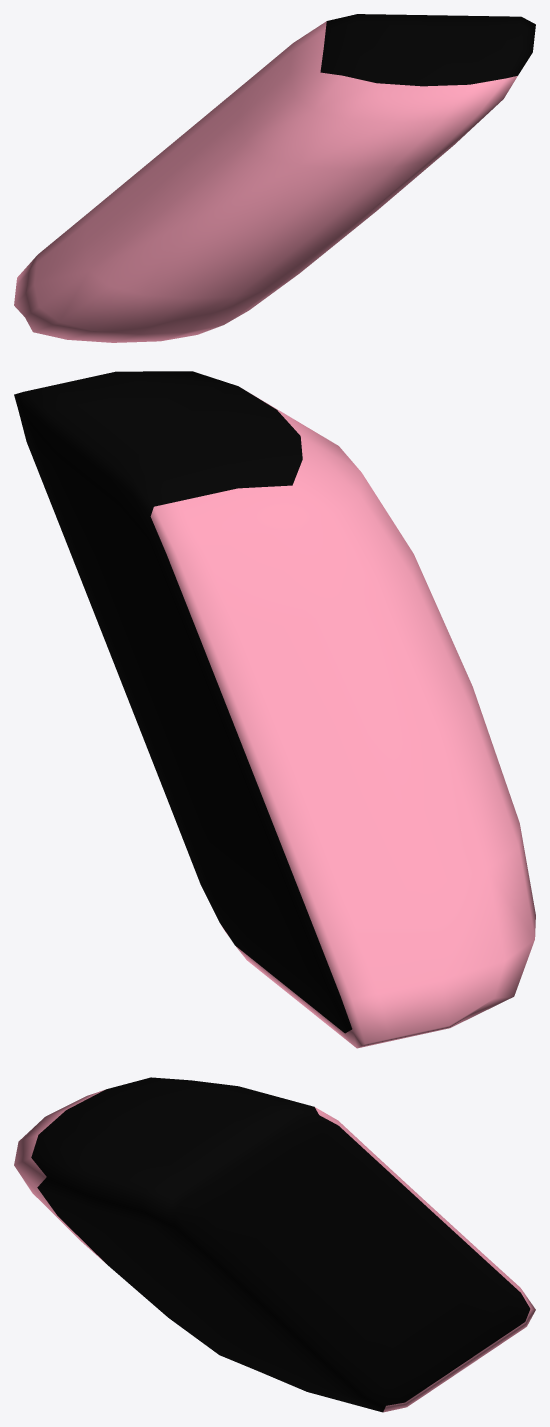
3 renders of one model, top to bottom at view 1: azimuth 30°, elevation 25°; view 2: azimuth 150°, elevation 25°; view 3: azimuth 270°, elevation 25°, orthographic. The views are drawn at different scales.
Visible parts, largest first — view 1: Box1247; view 2: Box1247; view 3: Box1247.
Boxes of the visible parts, left/top/right/bottom form: Box1247: left=14, top=14, right=535, bottom=342; Box1247: left=14, top=371, right=535, bottom=1048; Box1247: left=14, top=1077, right=535, bottom=1412.
Bounding box in the file's own units: 0.0579 × 0.0357 × 0.0449.
